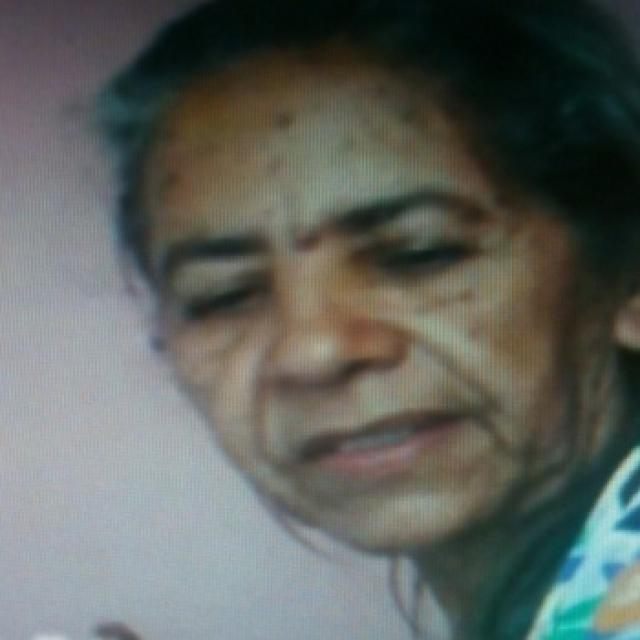Depress: (141, 55, 587, 549)
